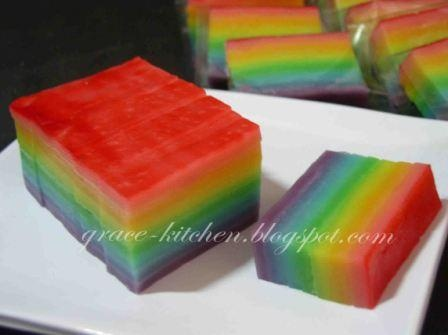kue_lapis_pelangi: (253, 148, 441, 310), (97, 118, 261, 295)
